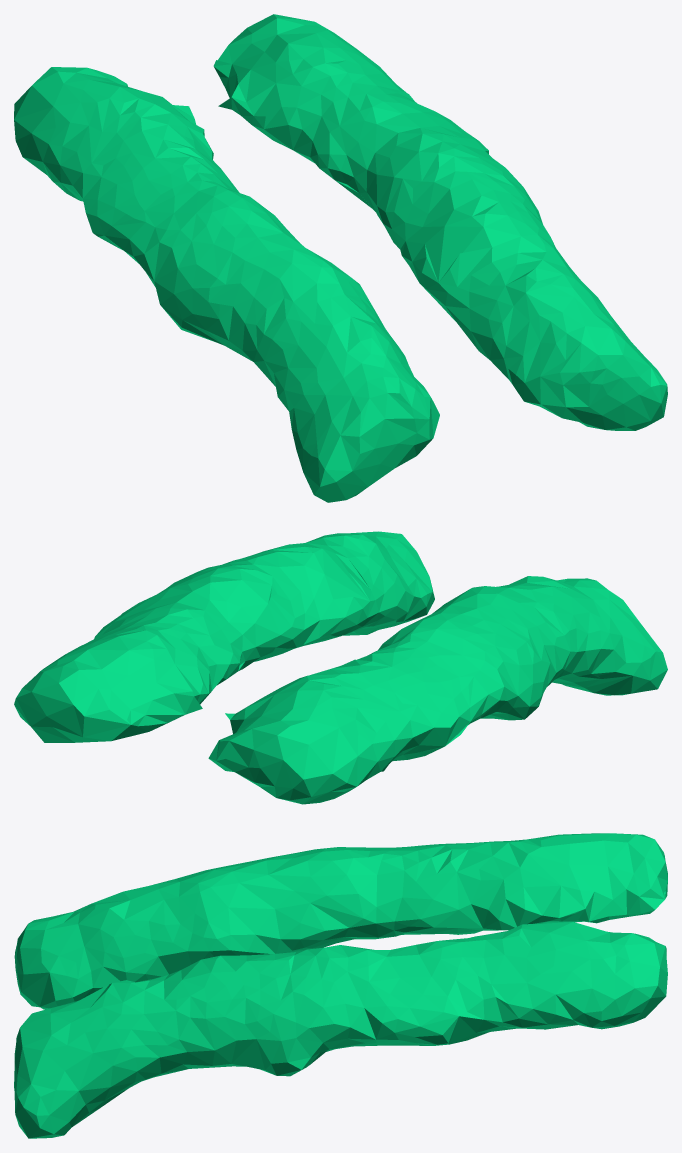
The model's file is 12-6.32-area 6.32 of cortex-('0.0000', '1.0000', '0.6118').obj.
The picture shows the model from 3 angles, top to bottom: view 1: azimuth 30°, elevation 25°; view 2: azimuth 150°, elevation 25°; view 3: azimuth 270°, elevation 25°; orthographic projection. The views are drawn at different scales.
Bounding box in the file's own units: 77.8 × 38.8 × 125.
